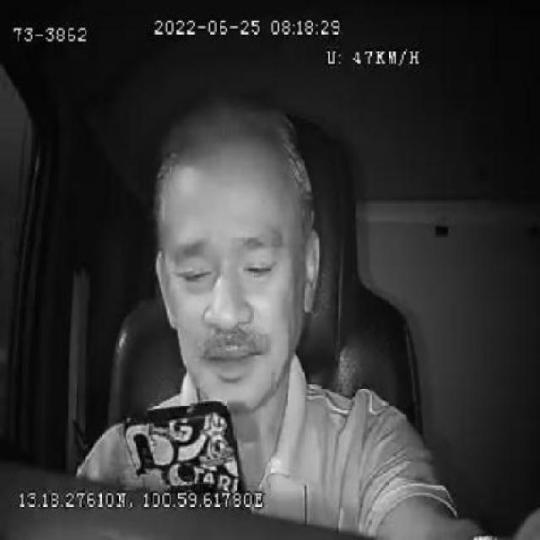phone: (124, 400, 249, 492)
